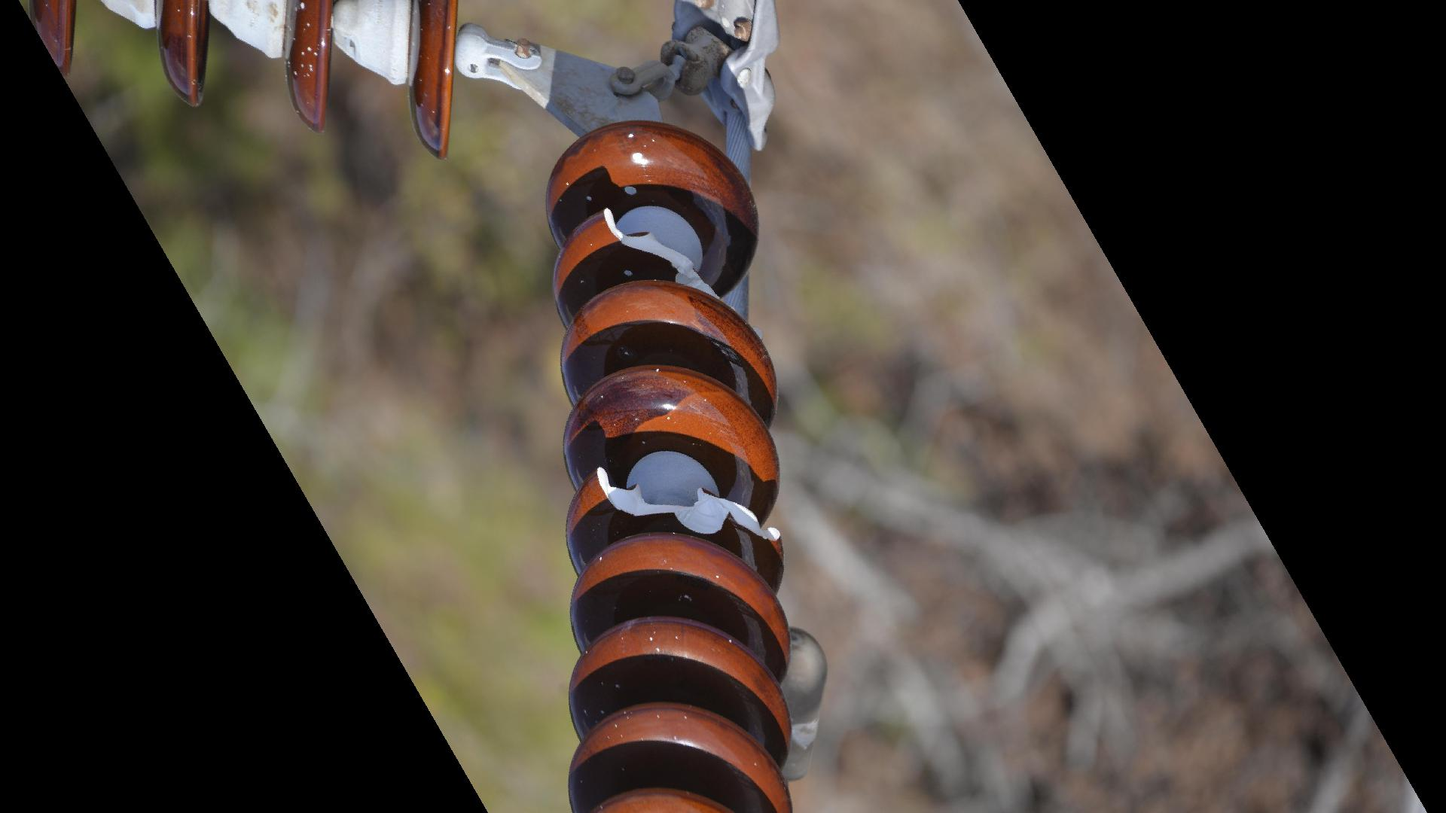insulator: (541, 113, 799, 813), (21, 1, 472, 166)
insulator_breakage: (581, 459, 792, 559), (591, 200, 727, 305)
